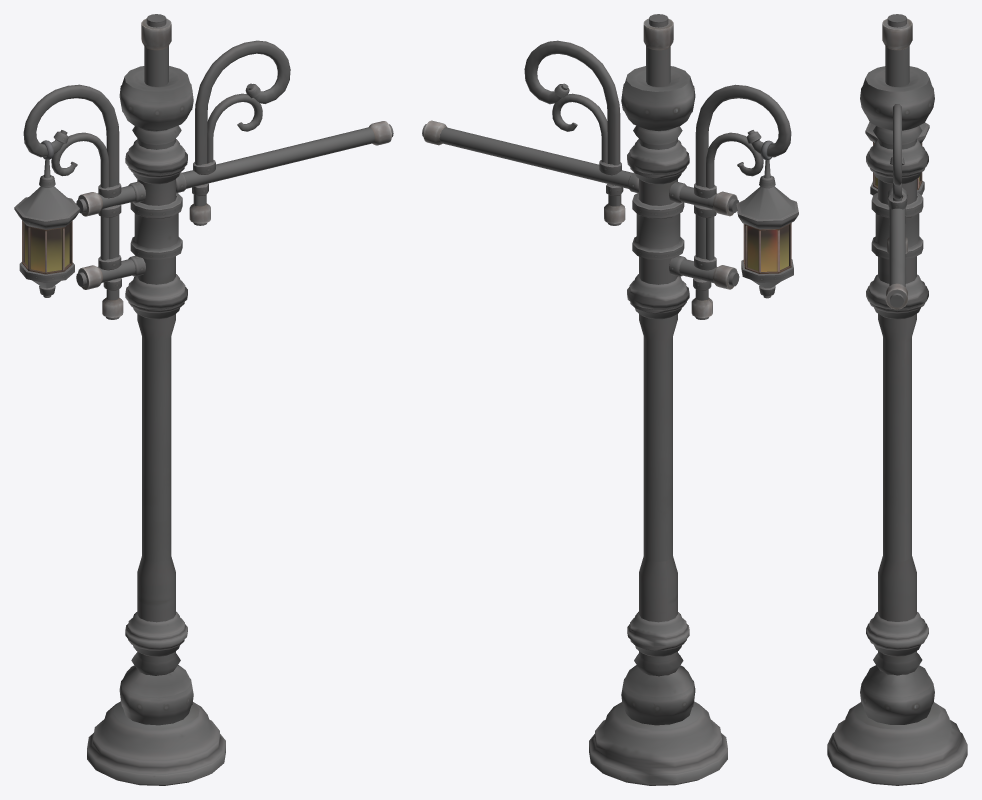
The model's file is SM_ExtLightPole_Metal_02.fbx.
3 views of the same model, side by side, from view 1: azimuth 30°, elevation 25°; view 2: azimuth 150°, elevation 25°; view 3: azimuth 270°, elevation 25° (orthographic).
Visible parts, largest first — view 1: SM_ExtLightPole_Metal_02_LOD0; view 2: SM_ExtLightPole_Metal_02_LOD0; view 3: SM_ExtLightPole_Metal_02_LOD0.
Part boxes in pixels (<box>): SM_ExtLightPole_Metal_02_LOD0: <box>14,14,393,785</box>; SM_ExtLightPole_Metal_02_LOD0: <box>422,14,798,785</box>; SM_ExtLightPole_Metal_02_LOD0: <box>827,14,967,785</box>.
Bounding box in the file's own units: 209 × 399 × 68.43.
